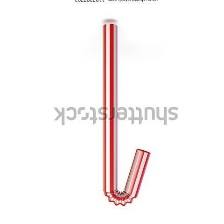drinking_straw: (92, 14, 156, 212)
